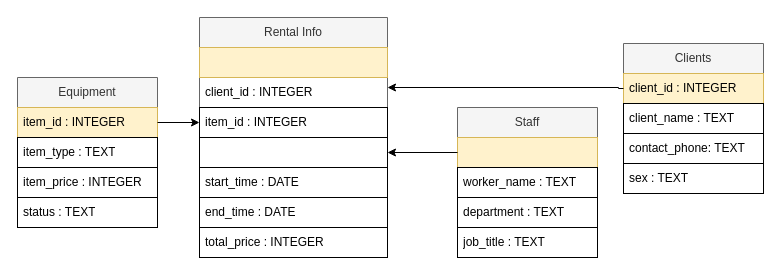
Some shapes in this 781 by 275 pixel diagram are drawn without their labels. The shapes that lost their labels are listed below. From the top down, each one's centre as x and y in pixels, then its label:
point 293,62: rental_id : INTEGER
point 293,152: asigned_worker_id : INTEGER
point 527,152: worker_id : INTEGER
